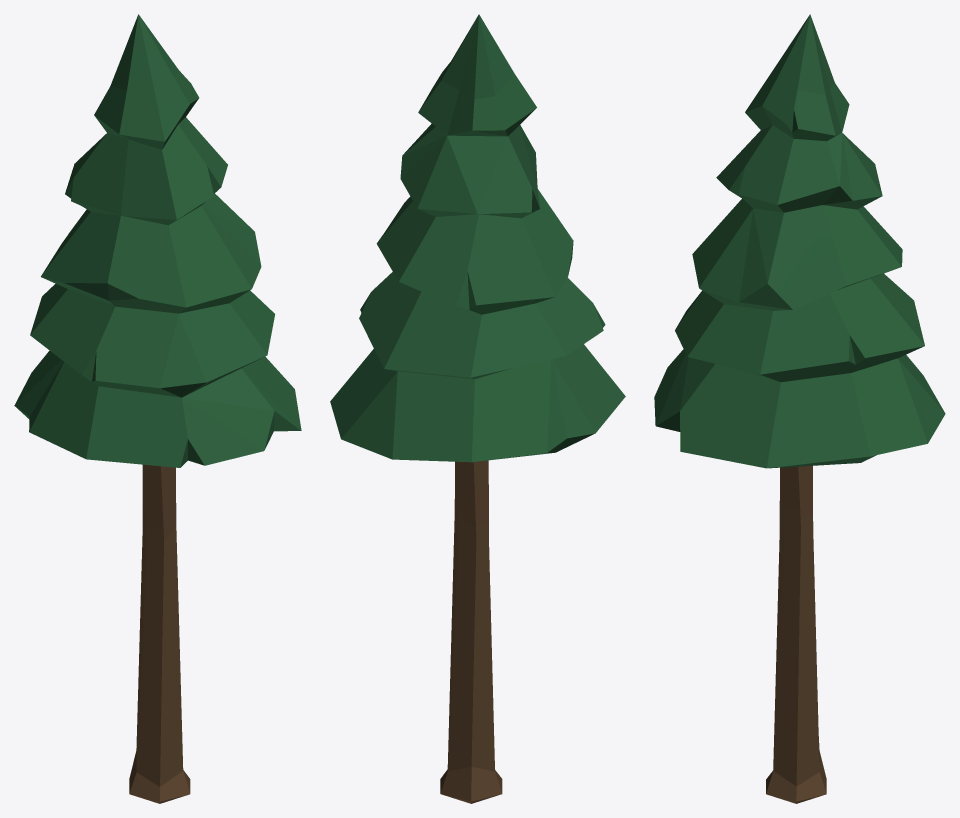
The model's file is tree8.fbx.
The picture shows the model from 3 angles, left to right: view 1: azimuth 30°, elevation 25°; view 2: azimuth 150°, elevation 25°; view 3: azimuth 270°, elevation 25°; orthographic projection. The views are drawn at different scales.
Parts seen in each view (by area): view 1: polySurface225; view 2: polySurface225; view 3: polySurface225.
Boxes of the visible parts, bbox=[...] form: polySurface225: bbox=[14, 14, 301, 803]; polySurface225: bbox=[330, 14, 625, 803]; polySurface225: bbox=[654, 14, 945, 803].
Bounding box in the file's own units: 148 × 451 × 152.
